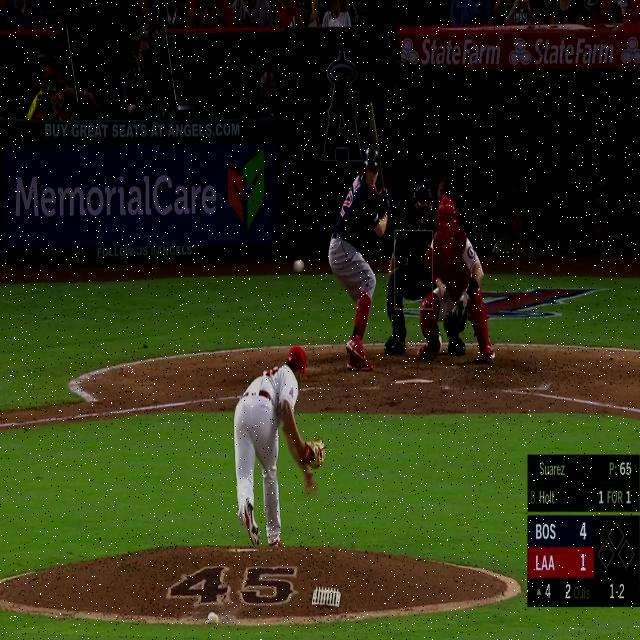baseball: (293, 259, 305, 274)
